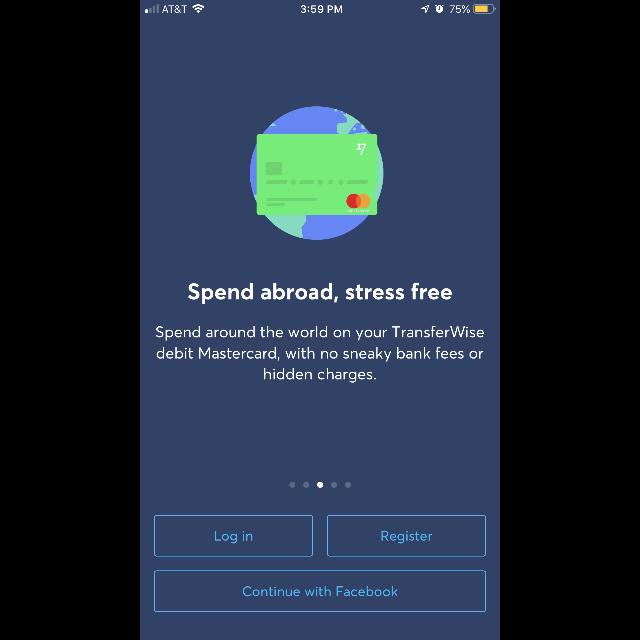image: (250, 106, 384, 240)
pageindicator: (289, 482, 351, 488)
text: (156, 326, 484, 382), (188, 282, 452, 304)
textbutton: (154, 570, 486, 612), (154, 515, 314, 557), (328, 515, 487, 557)
uppertaskbar: (140, 0, 500, 14)
